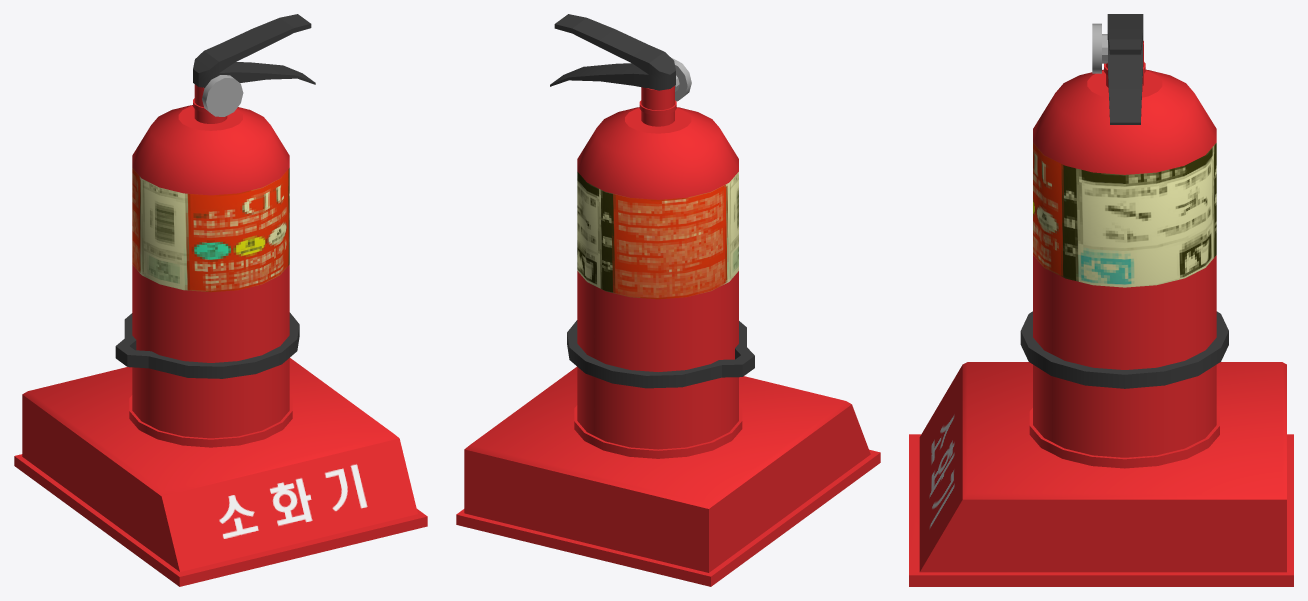
The model's file is fire_extinguisher_01.fbx.
3 renders of one model, left to right at view 1: azimuth 30°, elevation 25°; view 2: azimuth 150°, elevation 25°; view 3: azimuth 270°, elevation 25°, orthographic. The views are drawn at different scales.
Parts seen in each view (by area): view 1: Box002; view 2: Box002; view 3: Box002.
Part boxes in pixels (bbox=[...]): Box002: bbox=[14, 14, 427, 586]; Box002: bbox=[456, 14, 880, 586]; Box002: bbox=[909, 14, 1293, 586].
Size of the model in its own units: 321 by 553 by 371.
